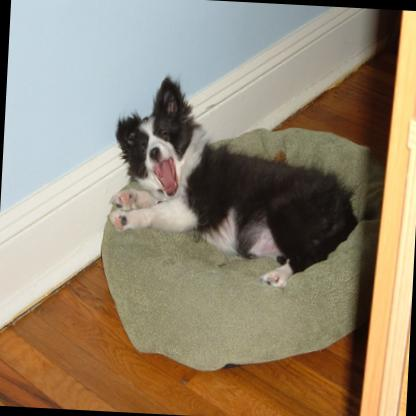Shetland_sheepdog: (101, 72, 371, 302)
